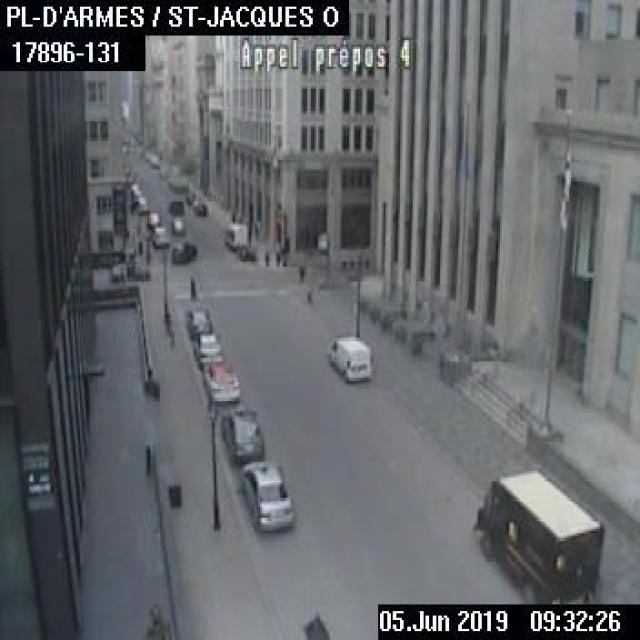pedestrian: (188, 273, 196, 300), (274, 244, 280, 265), (263, 246, 268, 266), (298, 264, 303, 282)
vehicle: (473, 466, 602, 600), (238, 460, 293, 531), (218, 403, 262, 462), (327, 336, 370, 379), (203, 356, 240, 400), (192, 332, 221, 368), (184, 304, 210, 336), (110, 262, 148, 280), (222, 222, 246, 247), (170, 240, 197, 261), (151, 226, 167, 245), (171, 216, 185, 233), (166, 198, 182, 212), (146, 209, 159, 226), (192, 198, 206, 213), (136, 195, 147, 213)
